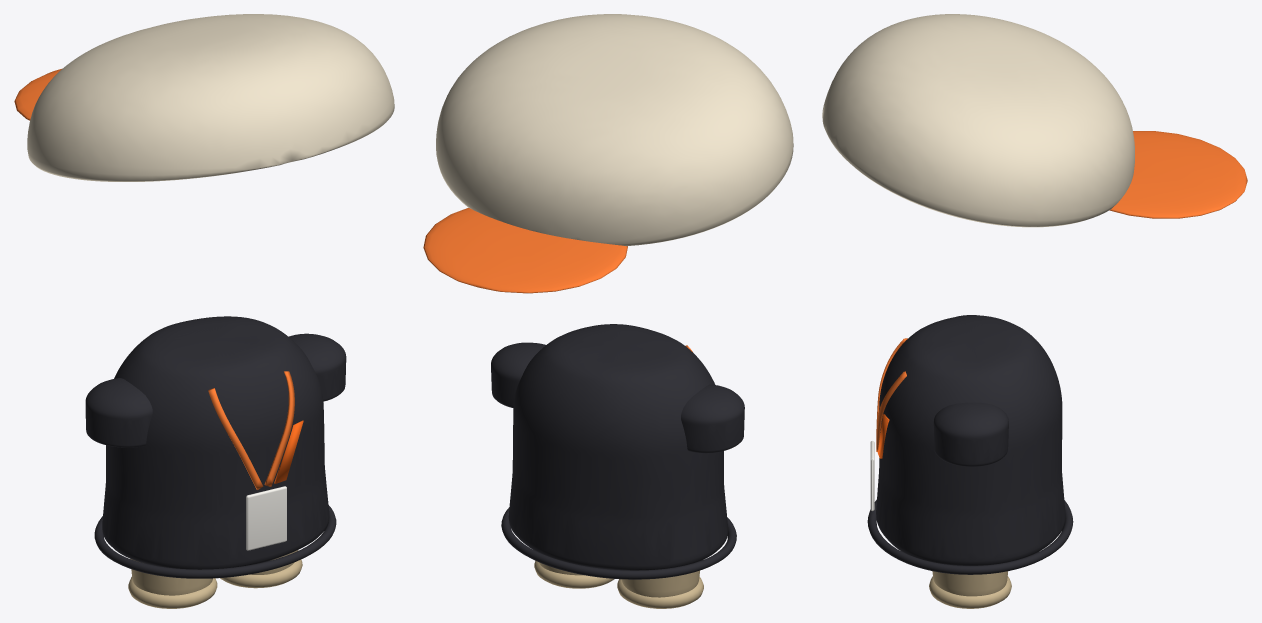
The model's file is fri.glb.
3 views of the same model, side by side, from view 1: azimuth 30°, elevation 25°; view 2: azimuth 150°, elevation 25°; view 3: azimuth 270°, elevation 25° (orthographic). The views are drawn at different scales.
Visible parts, largest first — view 1: fri_Head_00_cap, fri_Torso_00_tee, fri_ArmL_00_sleeve, fri_Torso_01_hem, fri_Torso_05_badge, fri_ArmR_00_sleeve.001, fri_Legs_00_joggers-1, fri_Legs_01_joggers_cuff-1, fri_Legs_03_joggers_cuff1, fri_Head_01_cap_peak, fri_Torso_03_lanyard-1, fri_Torso_04_lanyard1 (+1 smaller); view 2: fri_Head_00_cap, fri_Torso_00_tee, fri_Head_01_cap_peak, fri_ArmL_00_sleeve, fri_Torso_01_hem, fri_ArmR_00_sleeve.001, fri_Legs_00_joggers-1, fri_Legs_01_joggers_cuff-1, fri_Legs_03_joggers_cuff1; view 3: fri_Head_00_cap, fri_Torso_00_tee, fri_Head_01_cap_peak, fri_ArmR_00_sleeve.001, fri_Torso_01_hem, fri_Legs_02_joggers1, fri_Legs_03_joggers_cuff1.
Part boxes in pixels (x1=…): fri_Head_00_cap: x1=27, y1=14, x2=394, y2=181; fri_Torso_00_tee: x1=102, y1=316, x2=329, y2=569; fri_ArmL_00_sleeve: x1=85, y1=378, x2=152, y2=447; fri_Torso_01_hem: x1=94, y1=505, x2=336, y2=578; fri_Torso_05_badge: x1=246, y1=486, x2=286, y2=550; fri_ArmR_00_sleeve.001: x1=289, y1=333, x2=346, y2=401; fri_Legs_00_joggers-1: x1=130, y1=559, x2=212, y2=595; fri_Legs_01_joggers_cuff-1: x1=128, y1=577, x2=217, y2=608; fri_Legs_03_joggers_cuff1: x1=220, y1=559, x2=302, y2=588; fri_Head_01_cap_peak: x1=14, y1=68, x2=62, y2=120; fri_Torso_03_lanyard-1: x1=208, y1=388, x2=263, y2=489; fri_Torso_04_lanyard1: x1=264, y1=371, x2=294, y2=486; fri_Head_00_cap: x1=436, y1=14, x2=793, y2=246; fri_Torso_00_tee: x1=508, y1=324, x2=728, y2=570; fri_Head_01_cap_peak: x1=423, y1=208, x2=627, y2=293; fri_ArmL_00_sleeve: x1=681, y1=384, x2=744, y2=453; fri_Torso_01_hem: x1=501, y1=507, x2=736, y2=579; fri_ArmR_00_sleeve.001: x1=491, y1=342, x2=545, y2=407; fri_Legs_00_joggers-1: x1=621, y1=570, x2=699, y2=597; fri_Legs_01_joggers_cuff-1: x1=617, y1=577, x2=703, y2=608; fri_Legs_03_joggers_cuff1: x1=534, y1=560, x2=614, y2=588; fri_Head_00_cap: x1=822, y1=14, x2=1134, y2=227; fri_Torso_00_tee: x1=876, y1=315, x2=1065, y2=565; fri_Head_01_cap_peak: x1=1109, y1=131, x2=1247, y2=218; fri_ArmR_00_sleeve.001: x1=933, y1=402, x2=1008, y2=466; fri_Torso_01_hem: x1=867, y1=499, x2=1073, y2=574; fri_Legs_02_joggers1: x1=932, y1=571, x2=1007, y2=596; fri_Legs_03_joggers_cuff1: x1=929, y1=576, x2=1011, y2=608.
Bounding box in the file's own units: 1.63 × 2.59 × 1.9.
